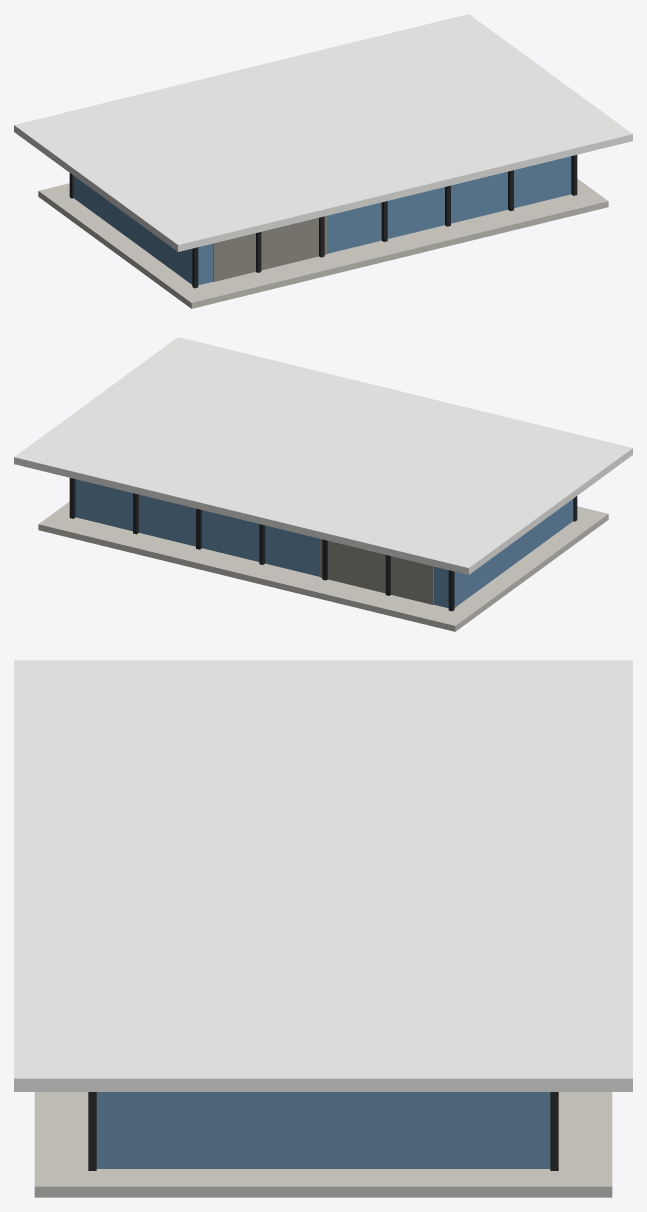
File: villa_mid_century.glb
3 renders of one model, top to bottom at view 1: azimuth 30°, elevation 25°; view 2: azimuth 150°, elevation 25°; view 3: azimuth 270°, elevation 25°, orthographic. The views are drawn at different scales.
Visible parts, largest first — view 1: villa_mid_century; view 2: villa_mid_century; view 3: villa_mid_century.
Boxes of the visible parts, box(x1,y1,x2,y2) form: villa_mid_century: box(14, 14, 632, 308); villa_mid_century: box(14, 337, 632, 631); villa_mid_century: box(14, 660, 632, 1197).
Bounding box in the file's own units: 24 × 3.65 × 15.
1 material, 1 textured.
